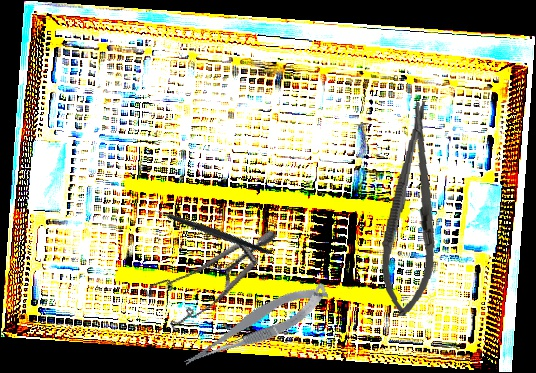Chopper: (143, 173, 272, 293)
Micro Scissor: (174, 278, 336, 373)
Needle Holder: (375, 99, 450, 319)
Speculum: (134, 191, 277, 352)
